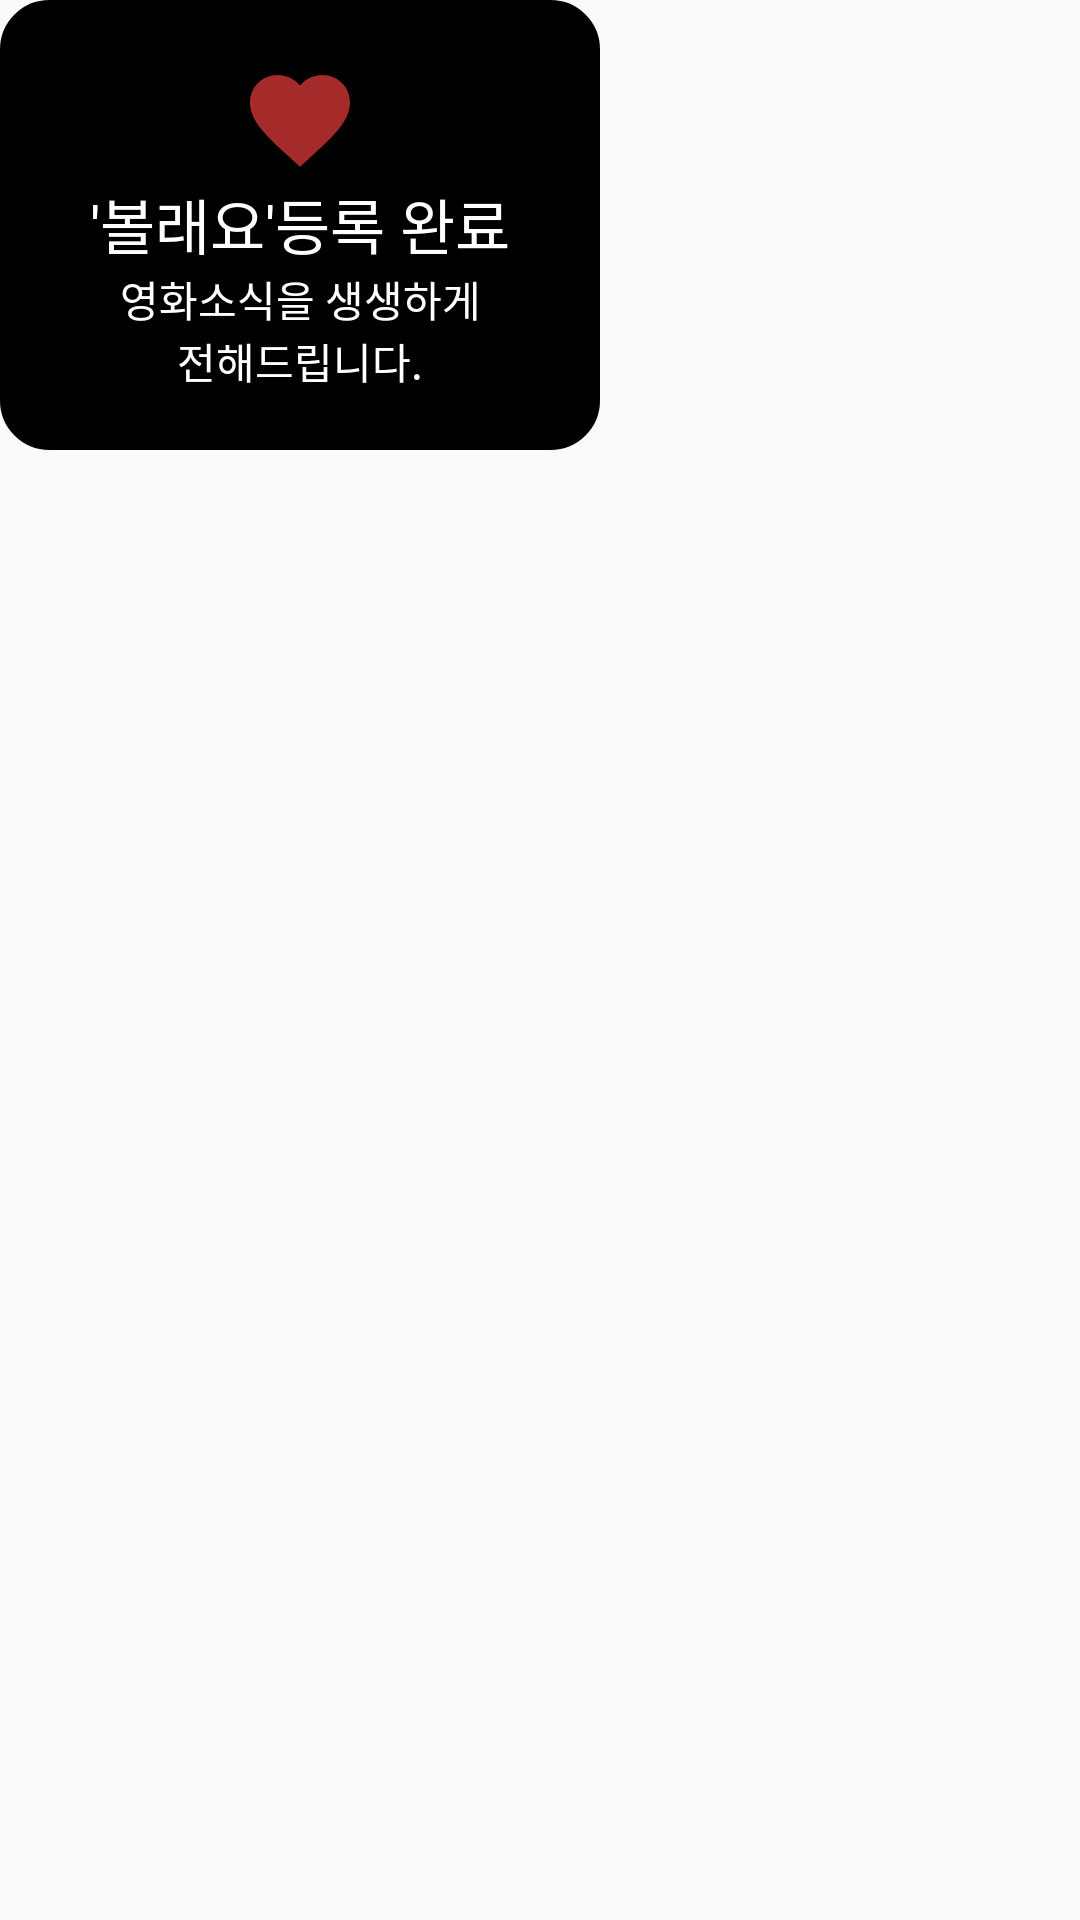

Locate icon controls on the screen. Image size 1080×1920, boxes as (x1, y1, x2, y2).
favorite: (250, 75, 350, 167)
